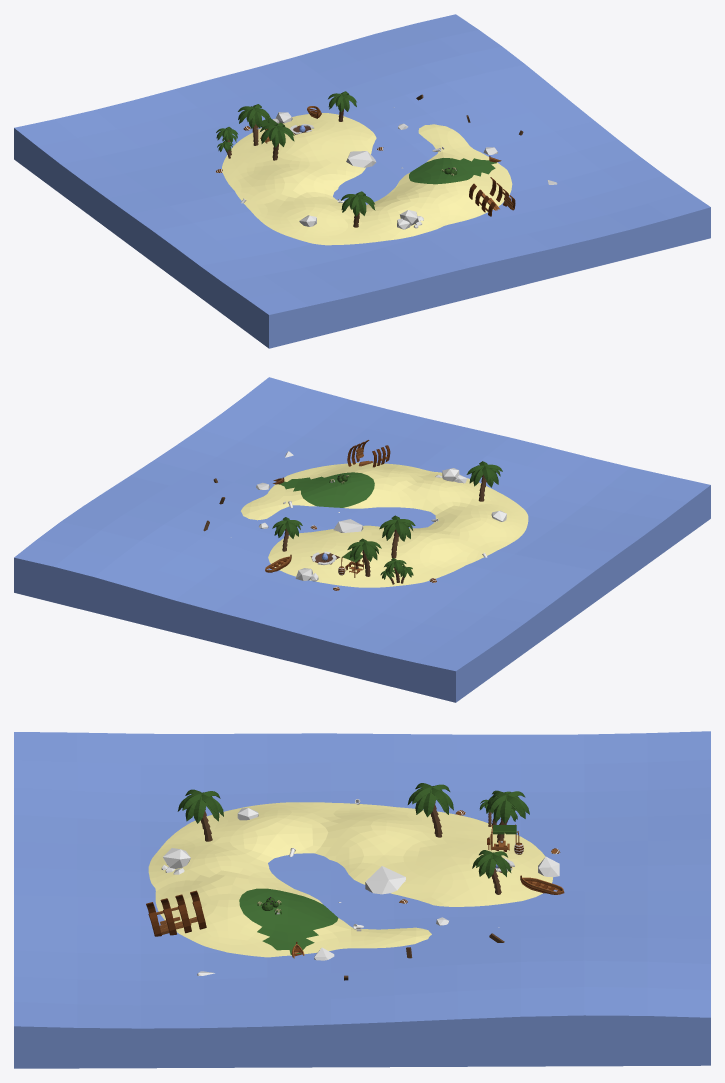
File: Source.fbx
3 views of the same model, one above another, from view 1: azimuth 30°, elevation 25°; view 2: azimuth 150°, elevation 25°; view 3: azimuth 270°, elevation 25° (orthographic). The views are drawn at different scales.
Visible parts, largest first — view 1: Cube.002, Icosphere.009, Cube.008, Palmier.003, Palmier.004, Palmier.006; view 2: Cube.002, Icosphere.009, Palmier.004, Palmier.006, Palmier.003, Cube.008; view 3: Cube.002, Icosphere.009, Cube.008, Palmier.004, Palmier.006, Palmier.003, Palmier.005, Icosphere.023.
Part boxes in pixels (<box>): Cube.002: <box>14,14,710,348</box>; Icosphere.009: <box>222,113,512,245</box>; Cube.008: <box>469,177,515,216</box>; Palmier.003: <box>238,104,270,145</box>; Palmier.004: <box>260,122,294,160</box>; Palmier.006: <box>340,191,375,227</box>; Cube.002: <box>14,377,710,702</box>; Icosphere.009: <box>241,462,528,587</box>; Palmier.004: <box>379,515,415,558</box>; Palmier.006: <box>466,461,502,501</box>; Palmier.003: <box>347,538,381,576</box>; Cube.008: <box>347,440,390,467</box>; Cube.002: <box>14,731,710,1068</box>; Icosphere.009: <box>148,802,552,957</box>; Cube.008: <box>146,890,206,936</box>; Palmier.004: <box>407,783,453,837</box>; Palmier.006: <box>177,789,223,841</box>; Palmier.003: <box>486,791,529,842</box>; Palmier.005: <box>472,850,511,894</box>; Icosphere.023: <box>365,866,405,894</box>.
Bounding box in the file's own units: 30727 × 5516 × 30729.
